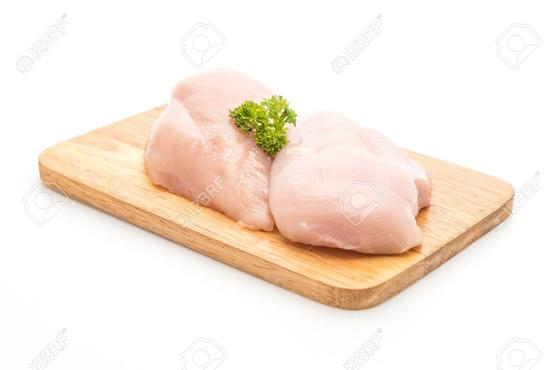chicken_fillet: (272, 103, 433, 266), (144, 69, 272, 238)
